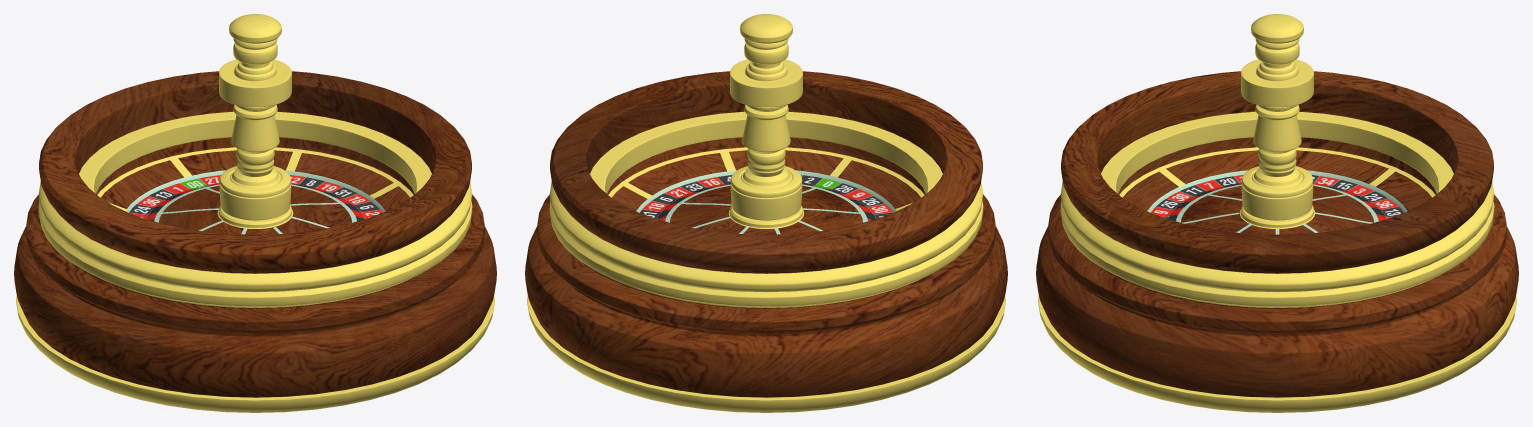
Rendered from roulette-wheel.glb.
The picture shows the model from 3 angles, left to right: view 1: azimuth 30°, elevation 25°; view 2: azimuth 150°, elevation 25°; view 3: azimuth 270°, elevation 25°; orthographic projection.
Visible parts, largest first — view 1: Cylinder; view 2: Cylinder; view 3: Cylinder.
Boxes of the visible parts, box(x1,y1,x2,y2) form: Cylinder: box(14, 14, 496, 412); Cylinder: box(525, 14, 1007, 412); Cylinder: box(1036, 14, 1518, 412).
Size of the model in its own units: 2.14 by 1.45 by 2.14.
Materials: 4 (2 with a texture image).
